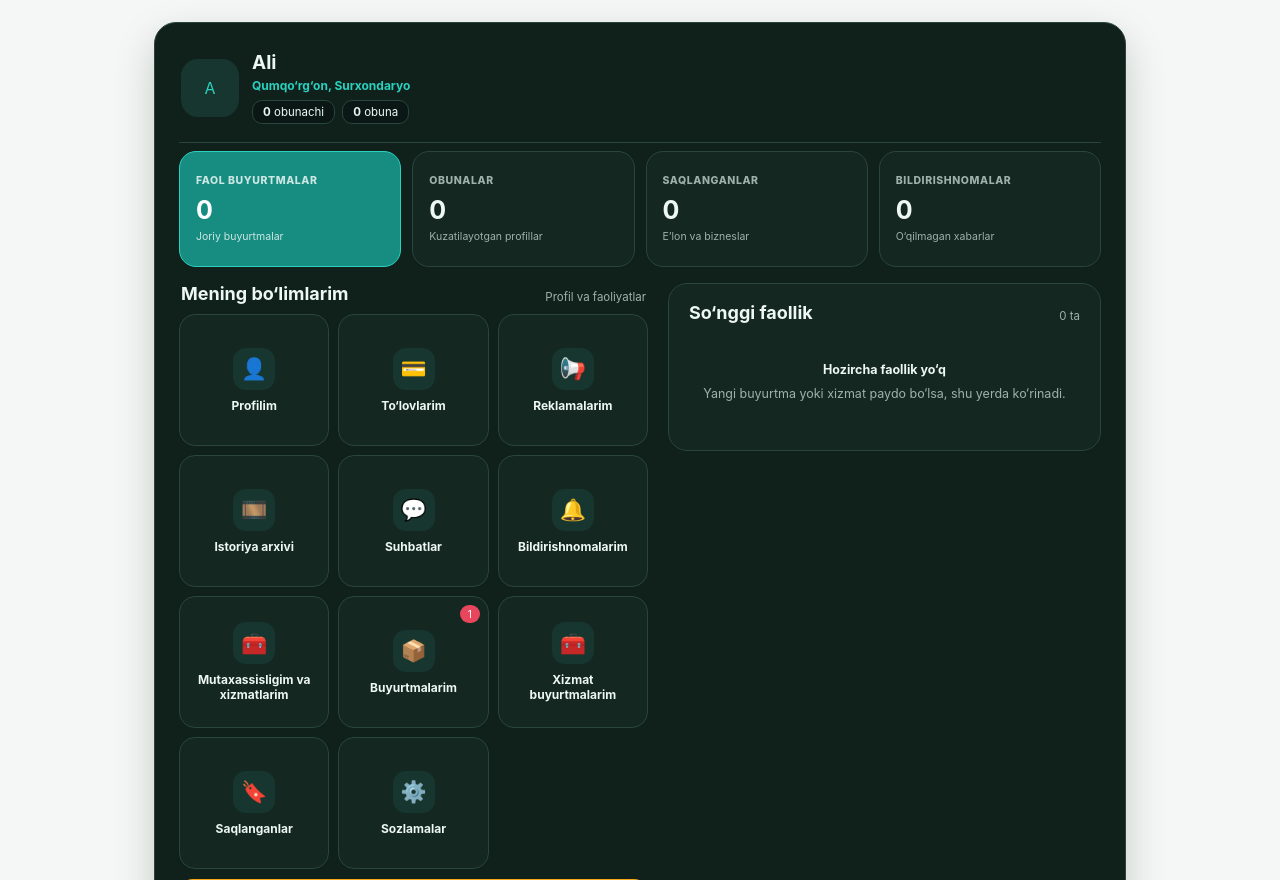
Scenario: v1656 order kabinet wiring › mijoz kabinetida jonli unread badge va /my ro‘yxatini ochadi
The width and height of the screenshot is (1280, 880).
Click the button "📦 Buyurtmalarim 1" at x=413, y=662, box left=338, top=596, right=489, bottom=728
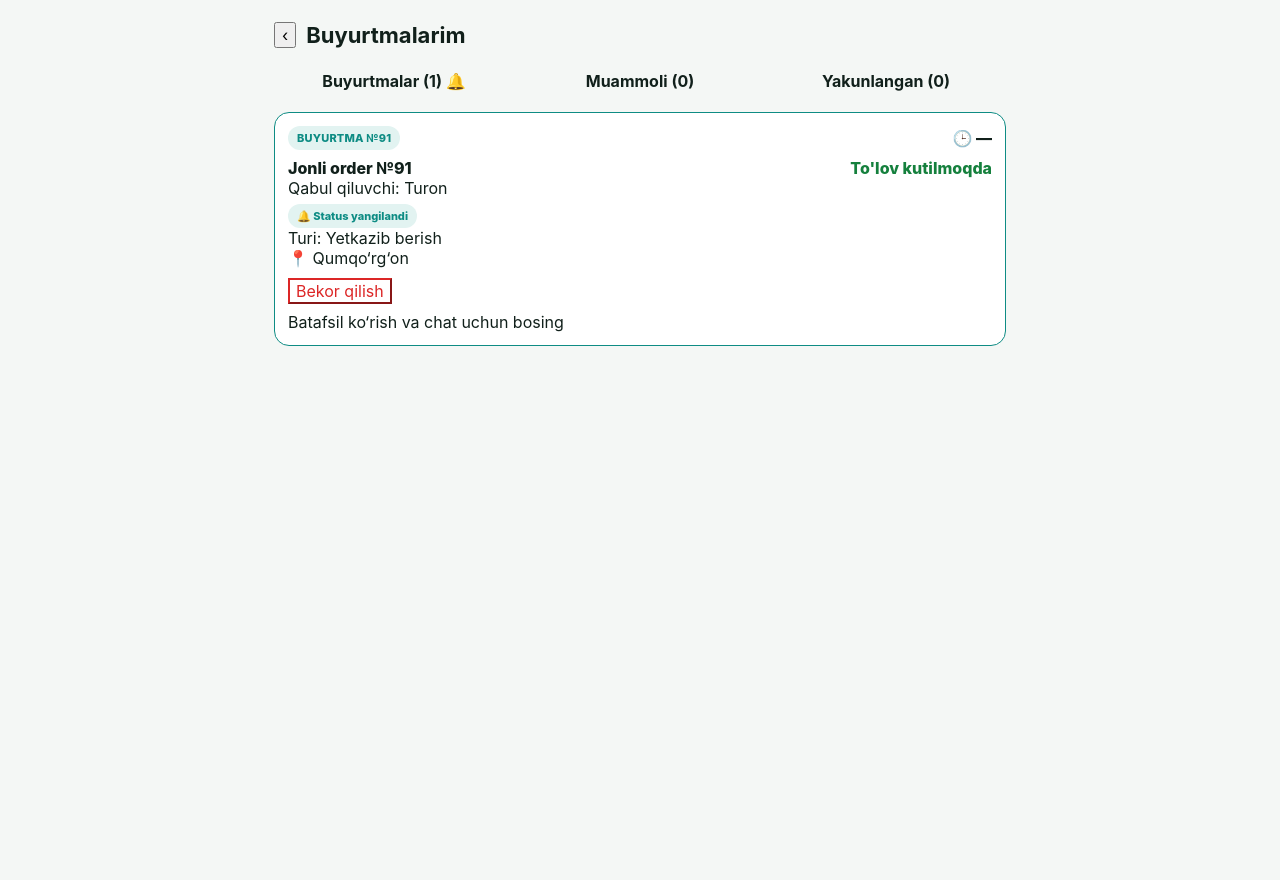
Check: the text "Jonli order №91" is shown, box left=288, top=158, right=412, bottom=178
